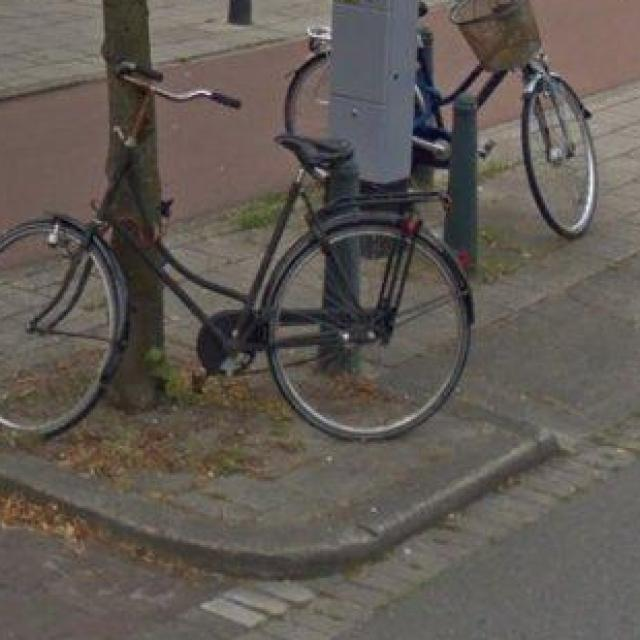bicycle: (4, 47, 490, 466), (262, 8, 631, 256)
